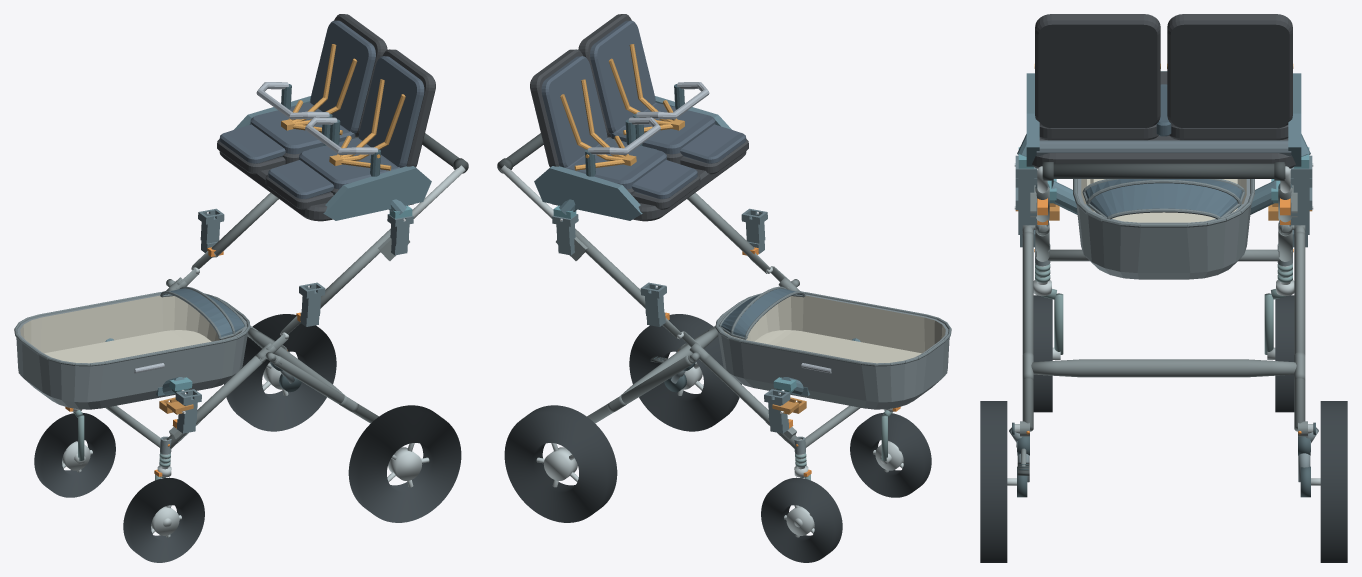
File: D24_w650_state1_wheel_L.glb
3 views of the same model, side by side, from view 1: azimuth 30°, elevation 25°; view 2: azimuth 150°, elevation 25°; view 3: azimuth 270°, elevation 25° (orthographic). The views are drawn at different scales.
Visible parts, largest first — view 1: D24_Upper, D24_Lower, RL_tire.008, RR_tire.008, FL_tire.008, FR_tire.008, V46_rear_leg_-1.009, main_lower_-1.009, main_upper_-1.009, main_upper_1.009, Universal_Cabin_Receiver_M_-1, RL_sealed_hub.008 (+6 smaller); view 2: D24_Upper, D24_Lower, RR_tire.008, RL_tire.008, FR_tire.008, FL_tire.008, V46_rear_leg_1.009, main_lower_1.009, main_upper_1.009, main_upper_-1.009, Universal_Cabin_Receiver_M_1, RR_sealed_hub.008 (+6 smaller); view 3: D24_Upper, D24_Lower, V46_rearbar.009, RL_tire.008, RR_tire.008, round_handle.008, FL_tire.008, FR_tire.008, V46_rear_leg_1.009, V46_rear_leg_-1.009, D24_Lower_Mount_L, front_fixed_round_tube.008 (+5 smaller).
Boxes of the visible parts, x1,y1,x2,y2 form: D24_Upper: (217, 14, 435, 221); D24_Lower: (14, 286, 250, 409); RL_tire.008: (348, 405, 461, 522); RR_tire.008: (224, 314, 336, 431); FL_tire.008: (123, 477, 204, 562); FR_tire.008: (34, 412, 115, 497); V46_rear_leg_-1.009: (273, 355, 378, 423); main_lower_-1.009: (166, 356, 265, 448); main_upper_-1.009: (320, 228, 390, 308); main_upper_1.009: (211, 193, 278, 256); Universal_Cabin_Receiver_M_-1: (299, 282, 325, 326); RL_sealed_hub.008: (388, 447, 422, 480); D24_Upper: (530, 14, 748, 221); D24_Lower: (715, 286, 951, 409); RR_tire.008: (504, 405, 617, 522); RL_tire.008: (629, 314, 741, 431); FR_tire.008: (761, 477, 842, 562); FL_tire.008: (850, 412, 931, 497); V46_rear_leg_1.009: (587, 355, 692, 423); main_lower_1.009: (700, 356, 799, 448); main_upper_1.009: (575, 228, 645, 308); main_upper_-1.009: (687, 193, 754, 256); Universal_Cabin_Receiver_M_1: (640, 282, 666, 326); RR_sealed_hub.008: (543, 447, 577, 480); D24_Upper: (1026, 14, 1301, 168); D24_Lower: (1073, 71, 1254, 279); V46_rearbar.009: (1031, 359, 1296, 377); RL_tire.008: (980, 401, 1007, 562); RR_tire.008: (1320, 401, 1347, 562); round_handle.008: (1042, 163, 1285, 178); FL_tire.008: (1033, 295, 1052, 412); FR_tire.008: (1275, 295, 1294, 412); V46_rear_leg_1.009: (1294, 231, 1305, 431); V46_rear_leg_-1.009: (1022, 231, 1033, 431); D24_Lower_Mount_L: (1047, 179, 1280, 214); front_fixed_round_tube.008: (1048, 249, 1279, 261).
Size of the model in its own units: 1.39 by 1.4 by 0.8171.
